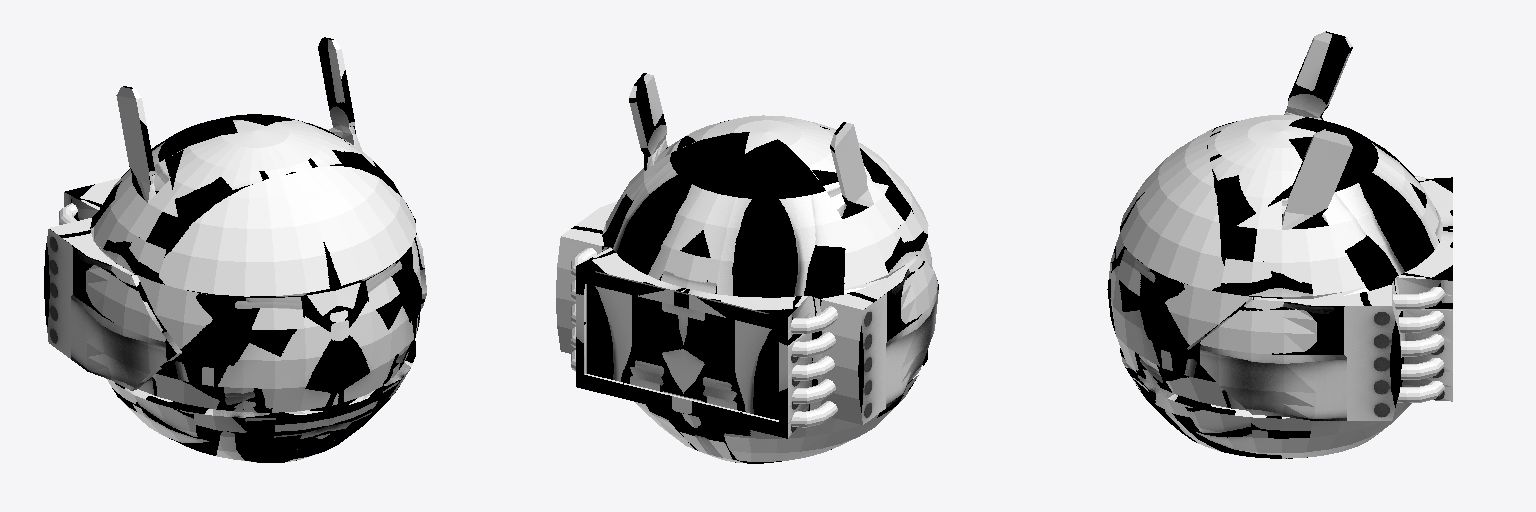
The picture shows the model from 3 angles: view 1: azimuth 30°, elevation 25°; view 2: azimuth 150°, elevation 25°; view 3: azimuth 270°, elevation 25°; orthographic projection.
Visible parts, largest first — view 1: robot_body_Sphere; view 2: robot_body_Sphere, cables_Cylinder; view 3: robot_body_Sphere, cables_Cylinder.
Boxes of the visible parts, x1=… form: robot_body_Sphere: x1=44, y1=37, x2=426, y2=462; robot_body_Sphere: x1=556, y1=73, x2=938, y2=463; cables_Cylinder: x1=571, y1=248, x2=837, y2=427; robot_body_Sphere: x1=1107, y1=31, x2=1452, y2=458; cables_Cylinder: x1=1393, y1=176, x2=1444, y2=402.
Size of the model in its own units: 0.8816 by 0.9706 by 0.8662.
Materials: 2 (1 with a texture image).